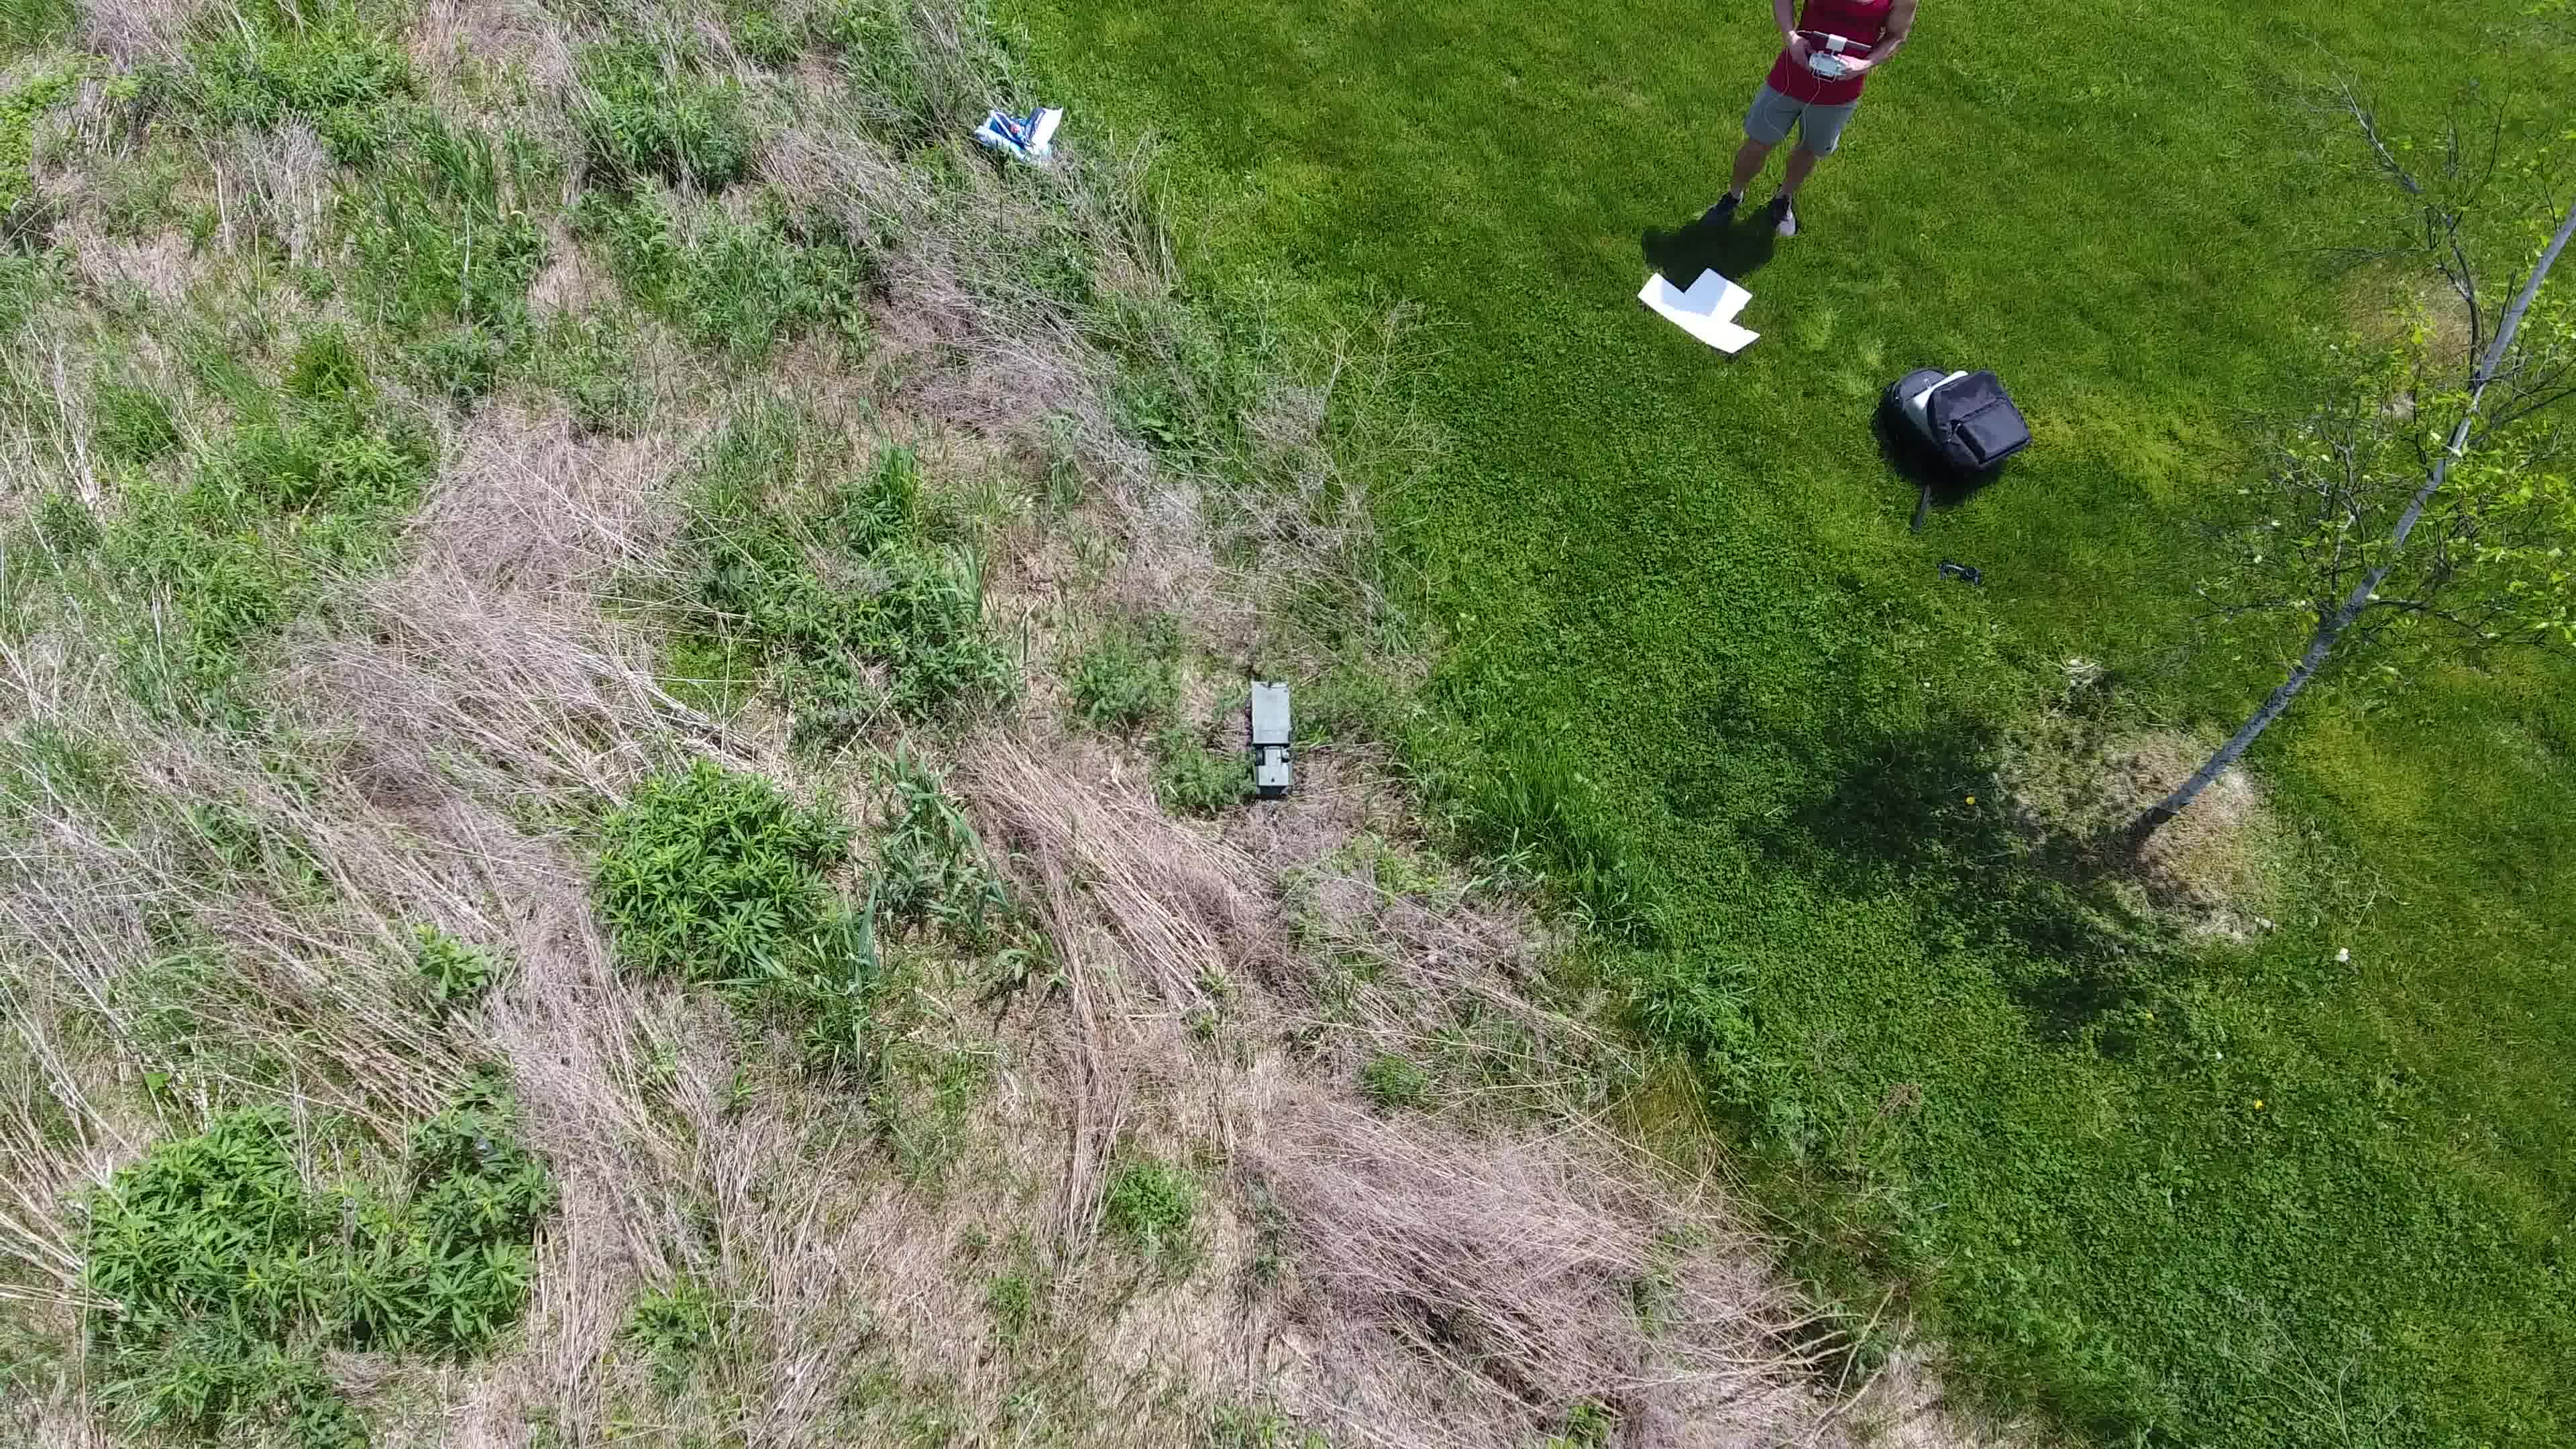transporter9: (1244, 676, 1299, 796)
